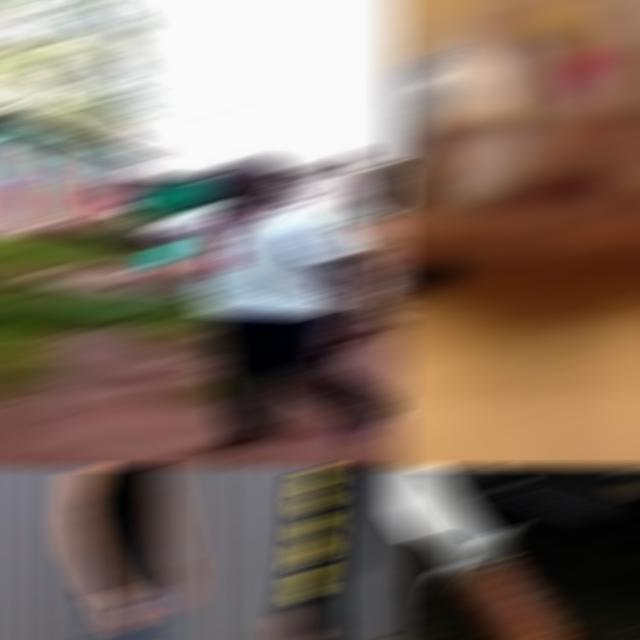Knife: (388, 469, 574, 638), (388, 50, 457, 188), (294, 336, 364, 375)
Knife_Handle: (294, 321, 386, 379), (94, 587, 149, 632)
